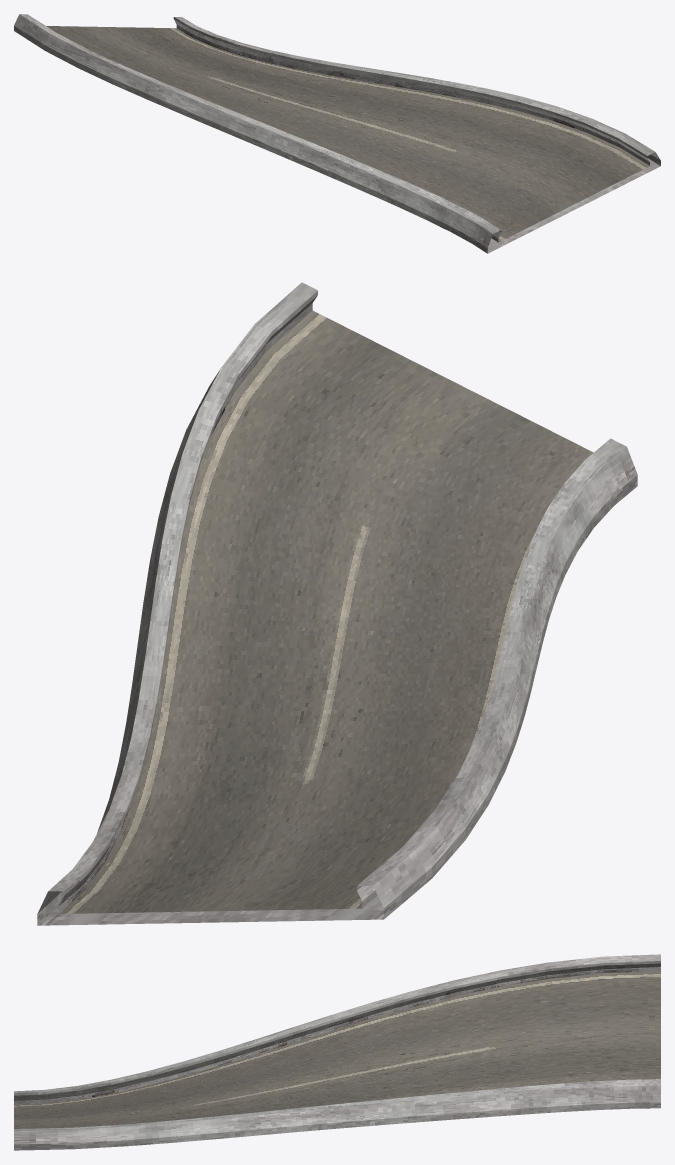
File: road-Chicane-HalfBankedLeft-HalfBankedRight-Even-Left1-Size3.glb
3 renders of one model, top to bottom at view 1: azimuth 30°, elevation 25°; view 2: azimuth 150°, elevation 25°; view 3: azimuth 270°, elevation 25°, orthographic. The views are drawn at different scales.
Visible parts, largest first — view 1: road-Chicane-HalfBankedLeft-HalfBankedRight-Even-Left1-Size3; view 2: road-Chicane-HalfBankedLeft-HalfBankedRight-Even-Left1-Size3; view 3: road-Chicane-HalfBankedLeft-HalfBankedRight-Even-Left1-Size3.
Boxes of the visible parts, x1,y1,x2,y2 form: road-Chicane-HalfBankedLeft-HalfBankedRight-Even-Left1-Size3: [14, 14, 660, 253]; road-Chicane-HalfBankedLeft-HalfBankedRight-Even-Left1-Size3: [37, 282, 637, 925]; road-Chicane-HalfBankedLeft-HalfBankedRight-Even-Left1-Size3: [14, 954, 660, 1150].
Size of the model in its own units: 2 by 0.3359 by 3.
2 materials, 2 textured.
